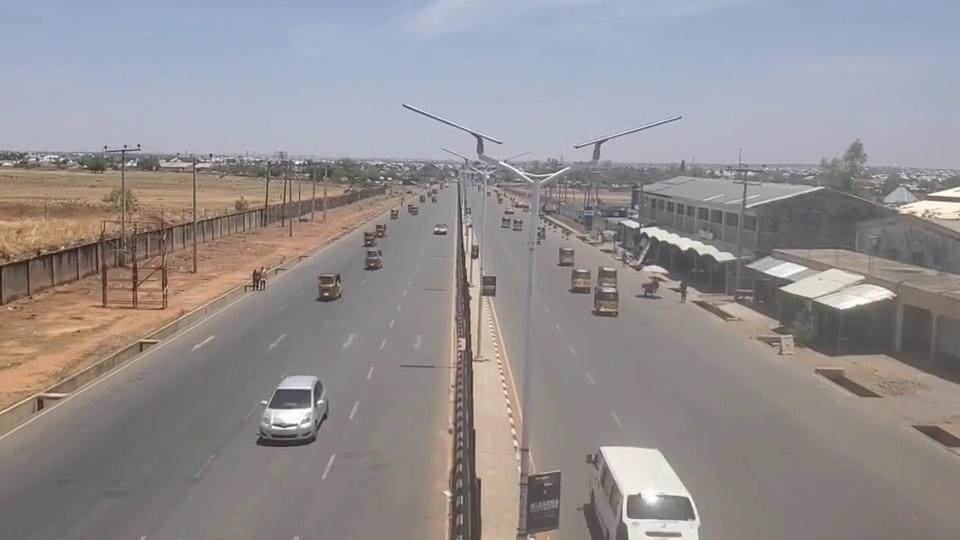bus: (591, 446, 701, 538)
car: (259, 374, 327, 441)
keke: (317, 272, 342, 299), (570, 268, 591, 292), (597, 266, 618, 287), (364, 249, 383, 270), (558, 246, 575, 266)
